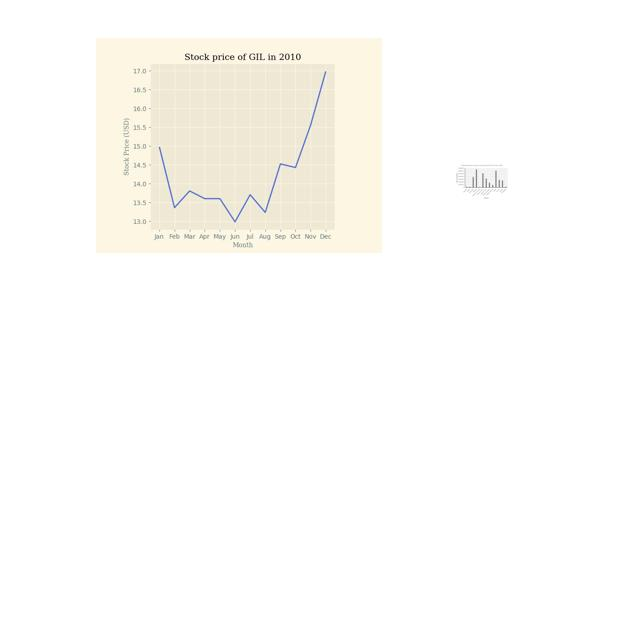Graph: (96, 38, 382, 253), (455, 164, 508, 200)
